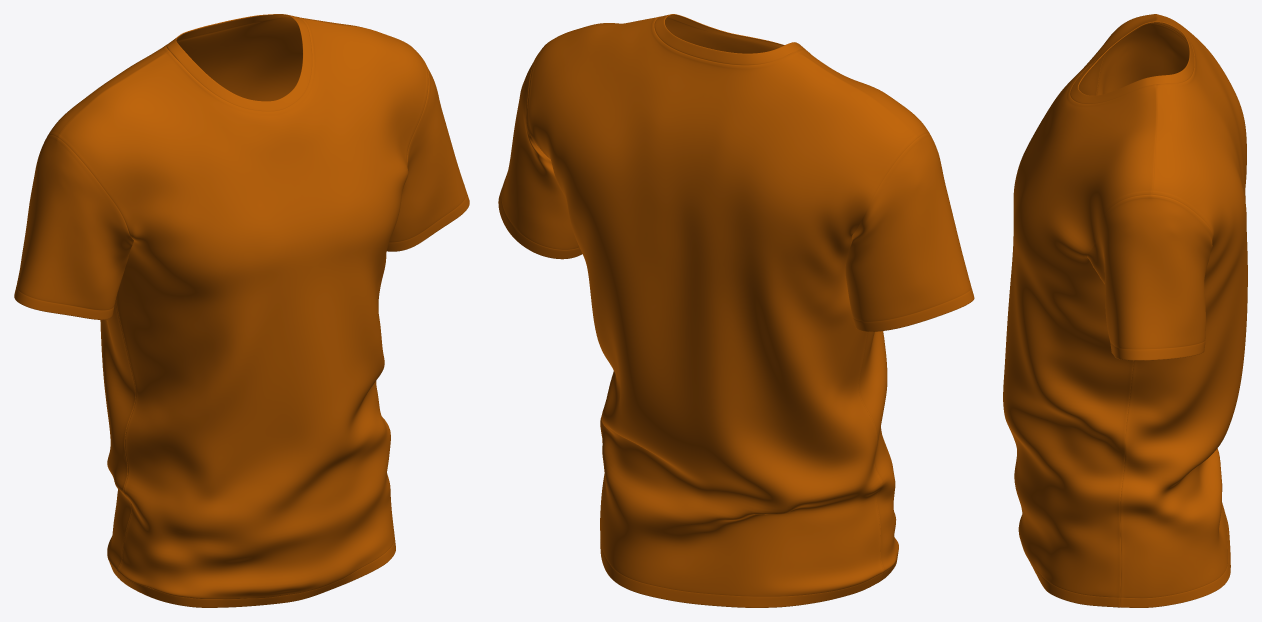
File: shirt_baked.glb
3 views of the same model, side by side, from view 1: azimuth 30°, elevation 25°; view 2: azimuth 150°, elevation 25°; view 3: azimuth 270°, elevation 25° (orthographic). The views are drawn at different scales.
Visible parts, largest first — view 1: T_Shirt_male; view 2: T_Shirt_male; view 3: T_Shirt_male.
Part boxes in pixels (x1,y1,x2,y2): T_Shirt_male: (14, 14, 469, 607); T_Shirt_male: (498, 14, 974, 607); T_Shirt_male: (1003, 14, 1247, 607).
Size of the model in its own units: 0.55 by 0.6129 by 0.269.
